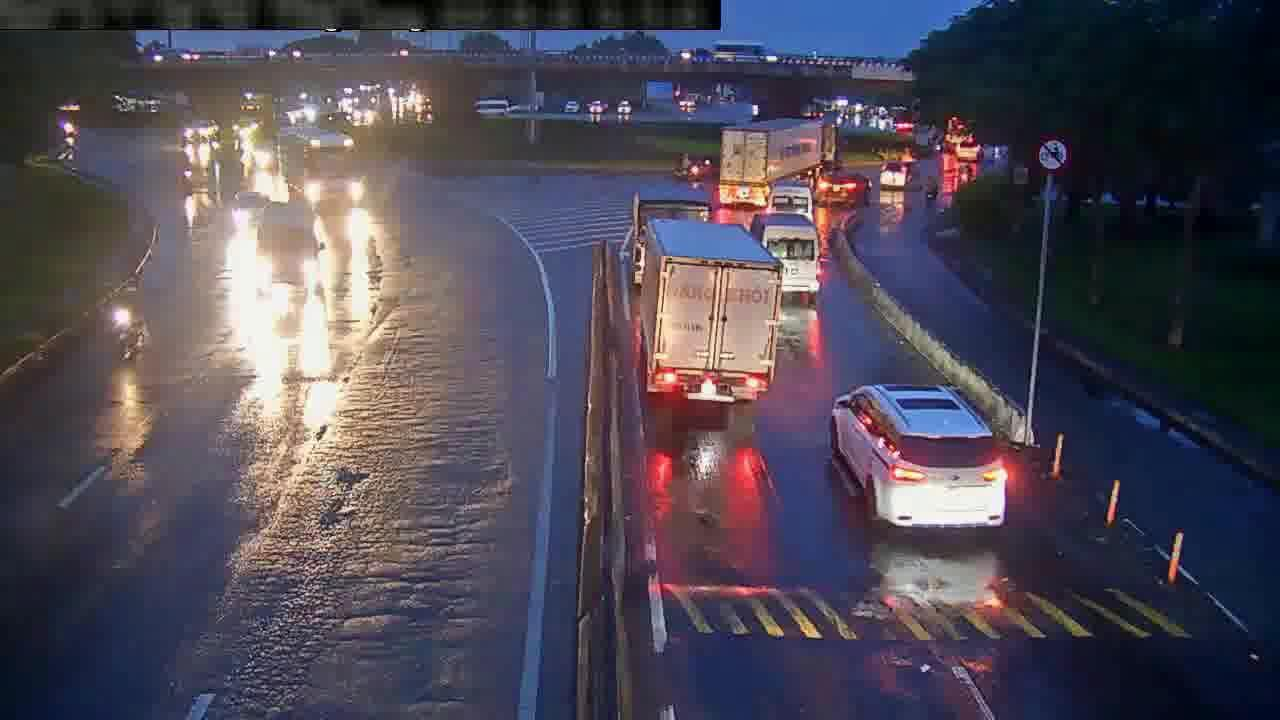car: (832, 382, 1011, 533), (814, 168, 875, 210), (878, 161, 918, 190)
container: (636, 216, 775, 412), (726, 117, 847, 201)
motorbike: (117, 282, 149, 362)
